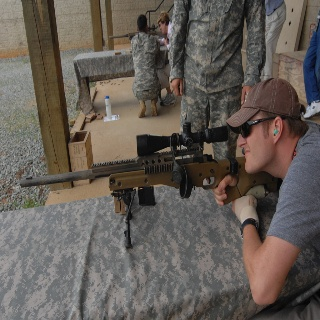rifle: (18, 123, 283, 206), (108, 25, 167, 40)
